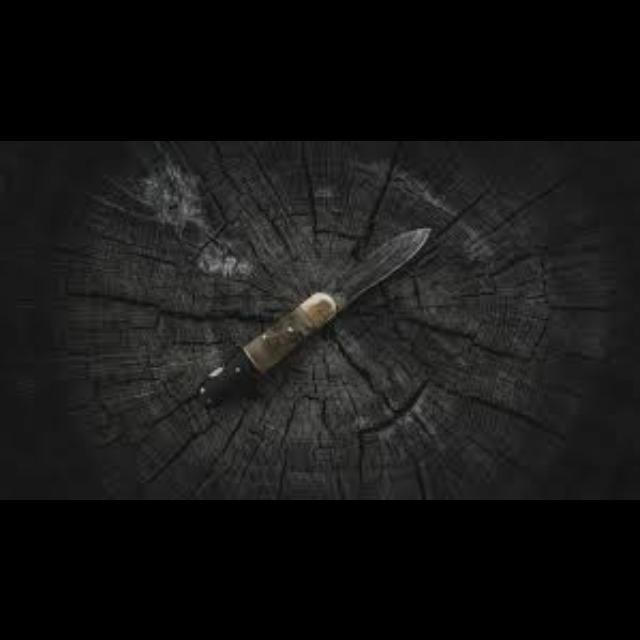knife: (195, 224, 432, 408)
